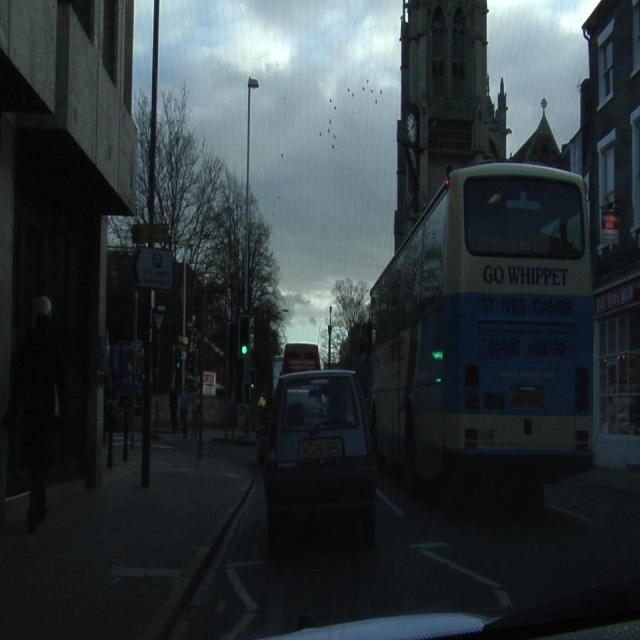Building: (1, 2, 136, 520), (395, 0, 505, 248)
Car: (264, 369, 377, 559)
Road: (168, 471, 630, 636)
Tree: (155, 85, 244, 344), (250, 195, 280, 359), (331, 278, 369, 335), (135, 92, 151, 221)
Truck_Bus: (370, 163, 592, 484)
